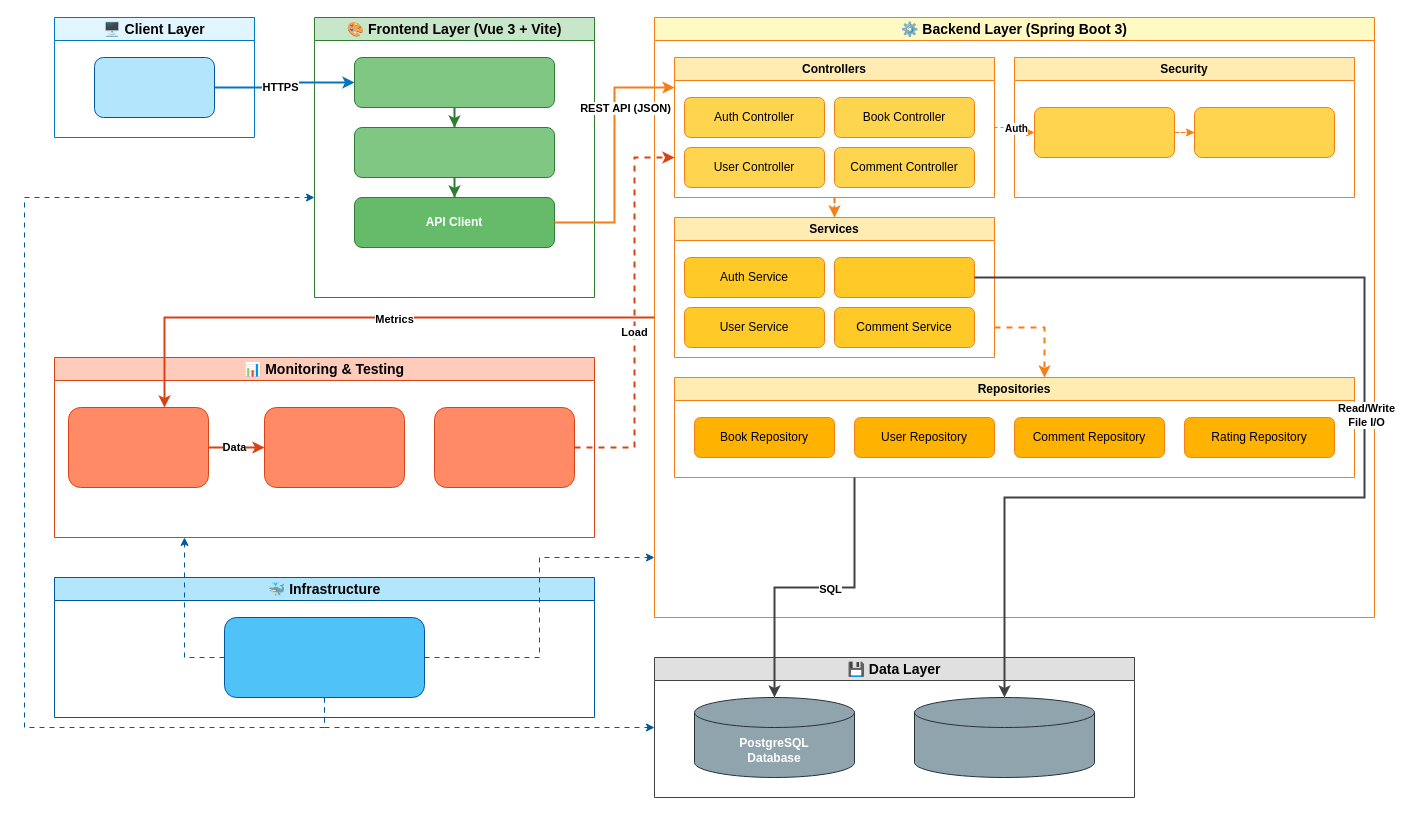
Image size: 1412x815. Some labels were removed from this diagram. The centre of each missing label's shape, as x and y in pixels:
"Book Service" goes at (x=904, y=277).
"Docker Compose (Orchestration)" goes at (x=324, y=657).
"Grafana (Visualization)" goes at (x=334, y=447).
"JWT Auth Filter" goes at (x=1104, y=132).
"k6 (Load Testing)" goes at (x=504, y=447).
"Prometheus (Metrics Collector)" goes at (x=138, y=447).
"UI Components" goes at (x=454, y=82).
"User Details Service" goes at (x=1264, y=132).
"Vue Router" goes at (x=454, y=152).
"👤 User (Browser)" goes at (x=154, y=87).
"📁 File Storage (Books & Covers)" goes at (x=1004, y=737).
